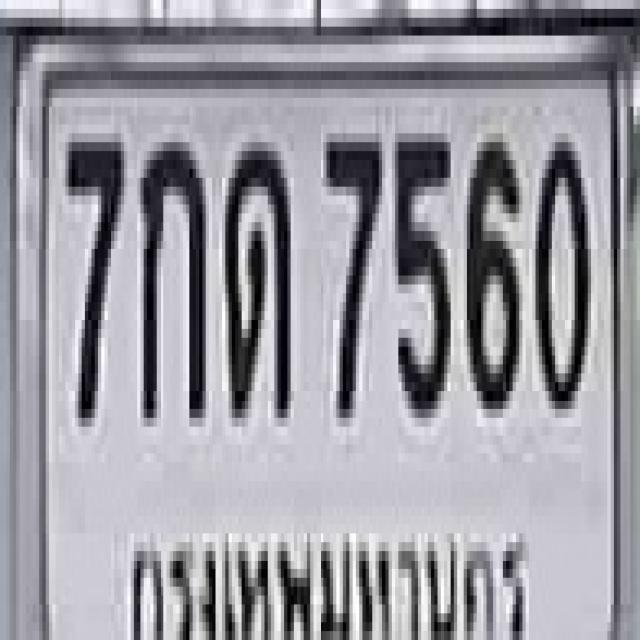0: (532, 133, 584, 400)
5: (392, 124, 447, 409)
6: (464, 133, 516, 400)
7: (65, 133, 121, 418), (323, 133, 379, 409)
A01: (137, 133, 203, 418)
A20: (222, 133, 287, 409)
BKK: (124, 521, 538, 640)
